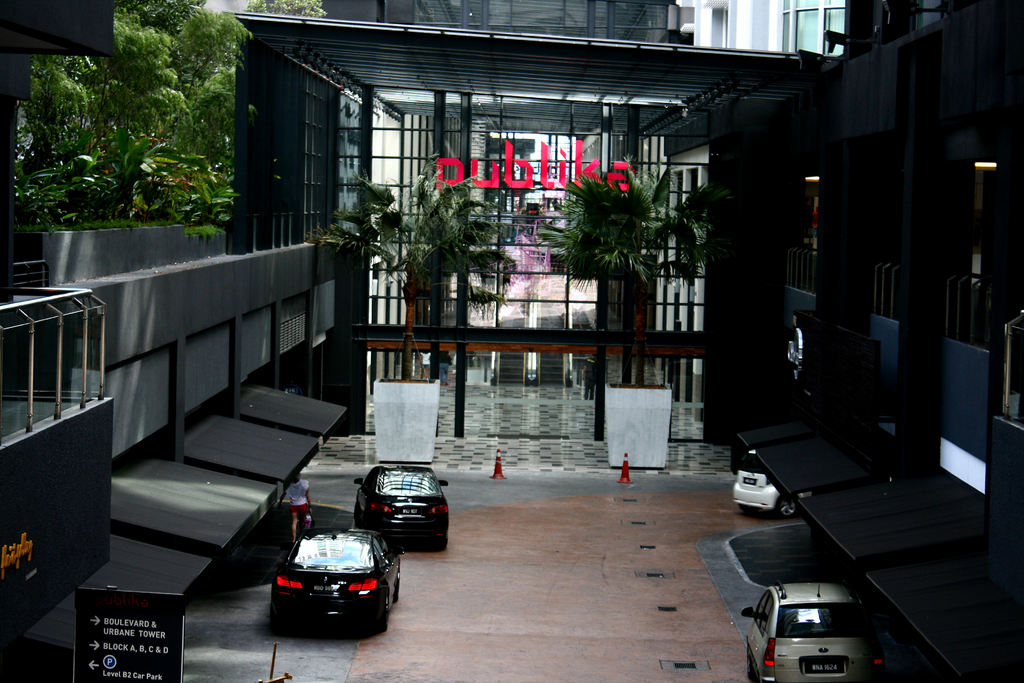car: (256, 519, 415, 642), (726, 567, 882, 683), (351, 449, 457, 553)
